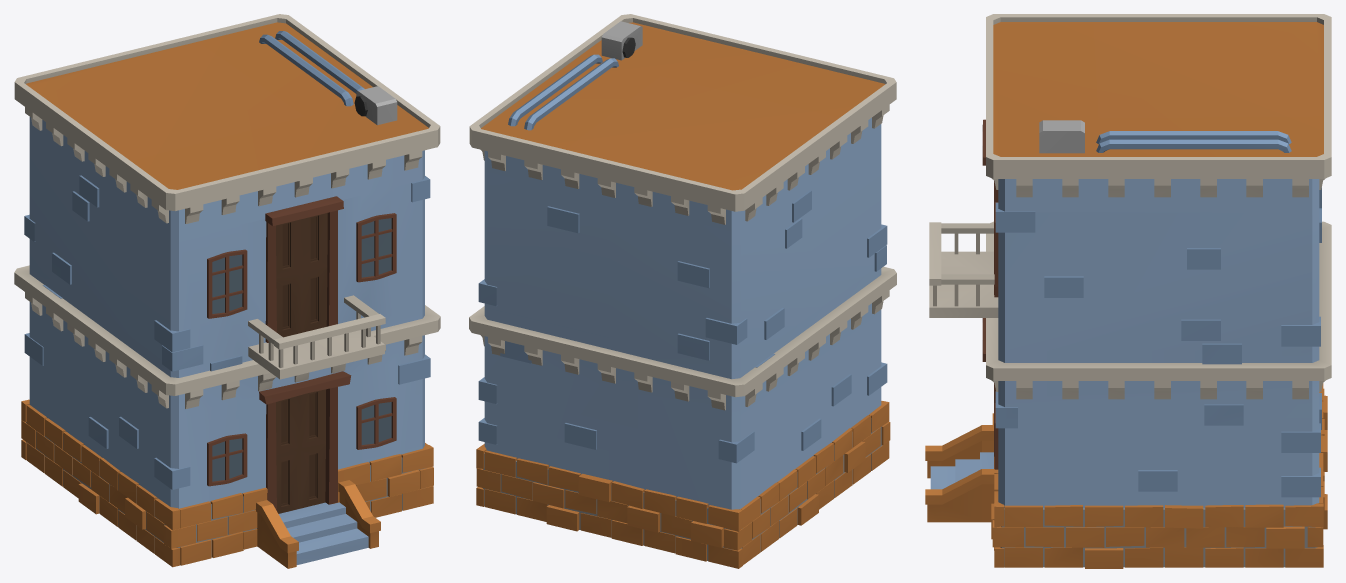
Rendered from house-4.glb.
3 views of the same model, side by side, from view 1: azimuth 30°, elevation 25°; view 2: azimuth 150°, elevation 25°; view 3: azimuth 270°, elevation 25° (orthographic). The views are drawn at different scales.
Visible parts, largest first — view 1: house-4; view 2: house-4; view 3: house-4.
Part boxes in pixels (x1,y1,x2,y2): house-4: (14, 14, 440, 568); house-4: (469, 14, 896, 568); house-4: (925, 14, 1331, 568).
Size of the model in its own units: 5.97 by 8.14 by 7.
